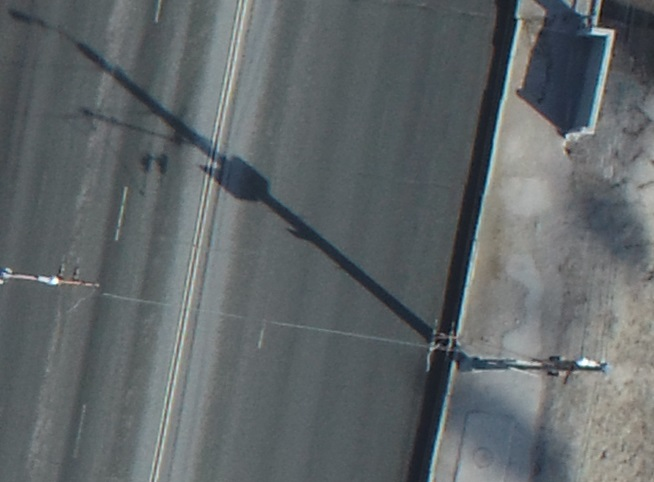opora: (457, 345, 614, 384)
